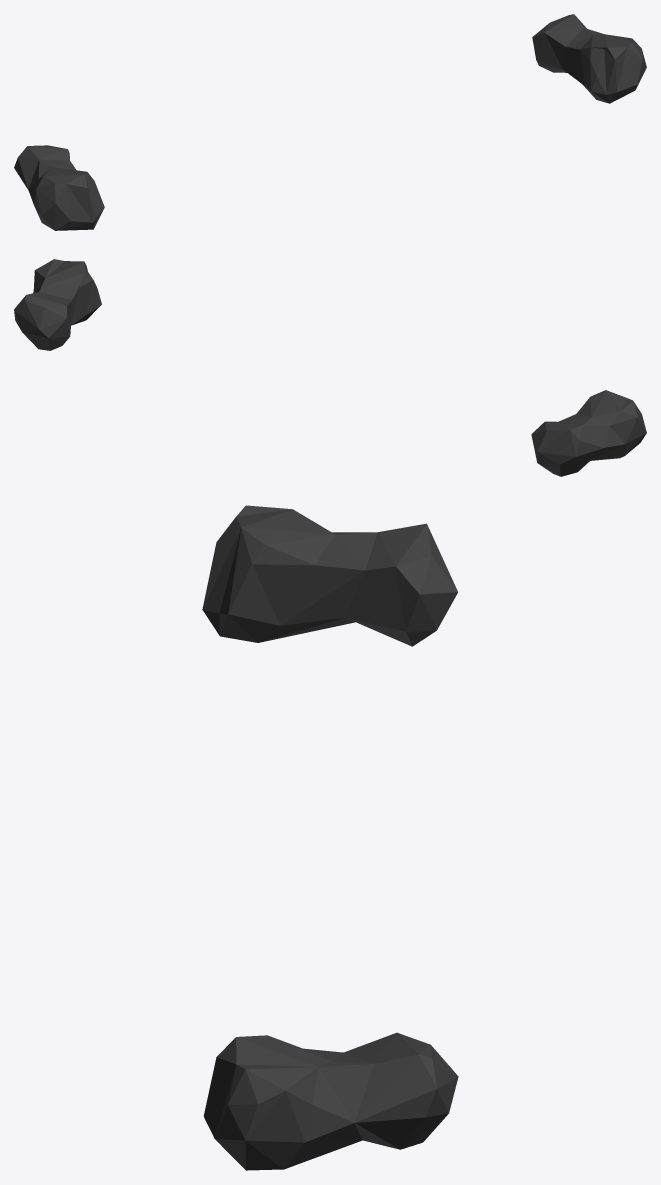
The model's file is Carpal_accessory.glb.
3 renders of one model, top to bottom at view 1: azimuth 30°, elevation 25°; view 2: azimuth 150°, elevation 25°; view 3: azimuth 270°, elevation 25°, orthographic. The views are drawn at different scales.
Visible parts, largest first — view 1: Carpal_accessory; view 2: Carpal_accessory; view 3: Carpal_accessory.
Boxes of the visible parts, x1,y1,x2,y2 form: Carpal_accessory: (14, 14, 646, 230); Carpal_accessory: (14, 259, 646, 476); Carpal_accessory: (202, 505, 458, 1170).
Size of the model in its own units: 0.00388 by 0.000345 by 0.000711.
Materials: 1 (1 with a texture image).
